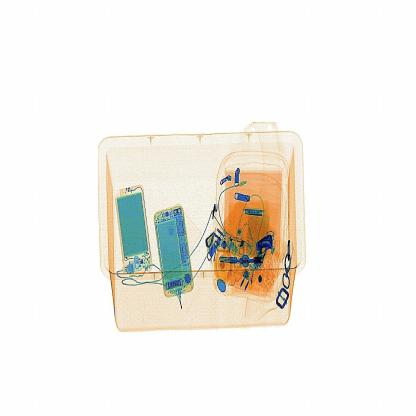knife: (250, 229, 276, 259)
